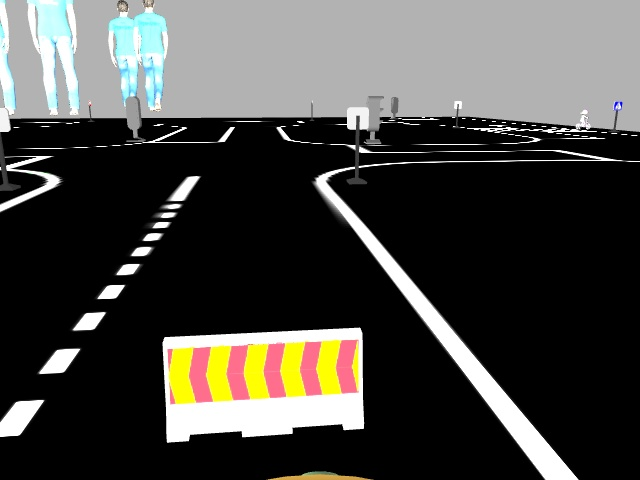ClosedRoadStand: (163, 338, 363, 429)
